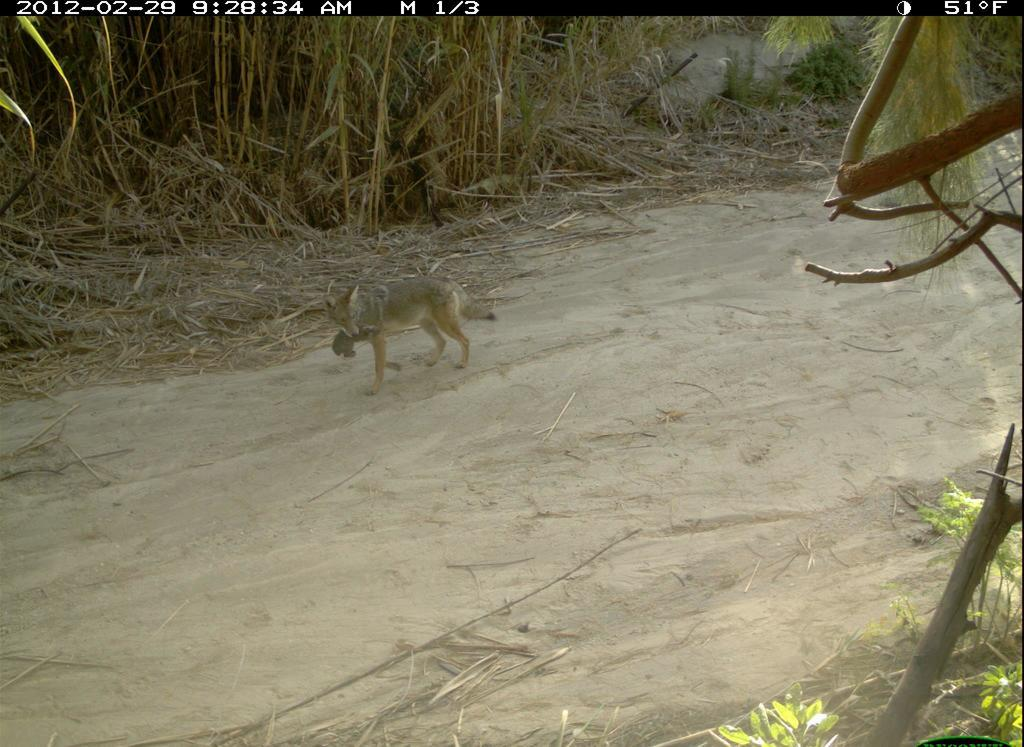coyote: (318, 268, 505, 399)
